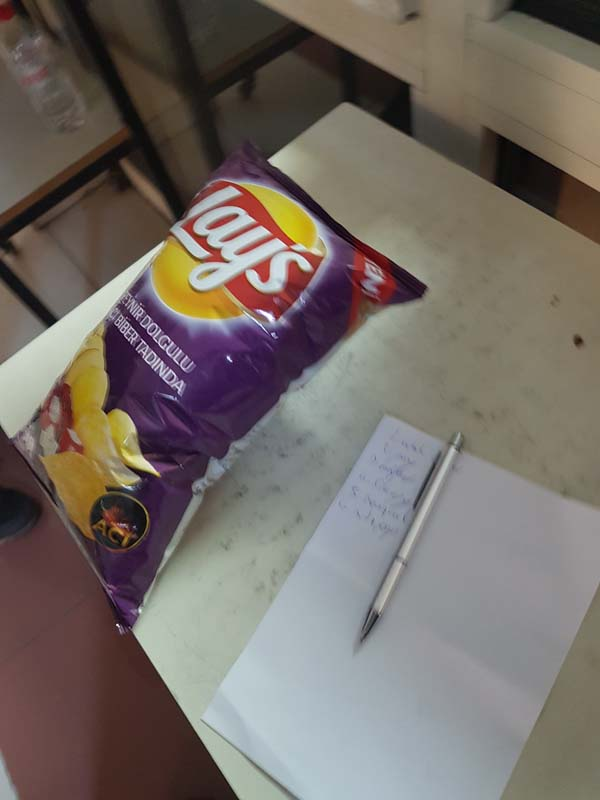layspeynirsoslu: (11, 135, 433, 633)
